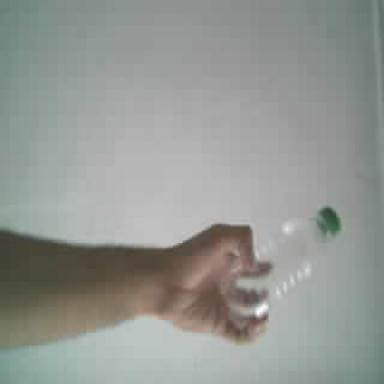bottle: (222, 206, 341, 318)
